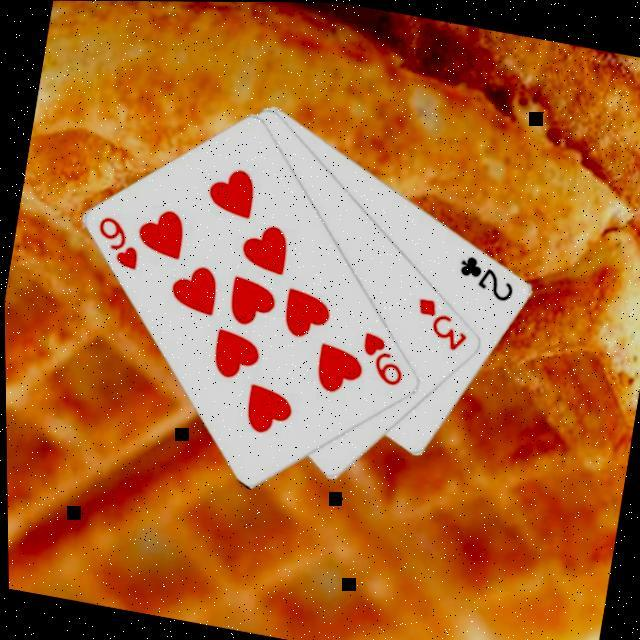2C: (452, 250, 522, 306)
3D: (406, 293, 475, 357)
9H: (352, 327, 412, 391), (88, 212, 148, 276)
